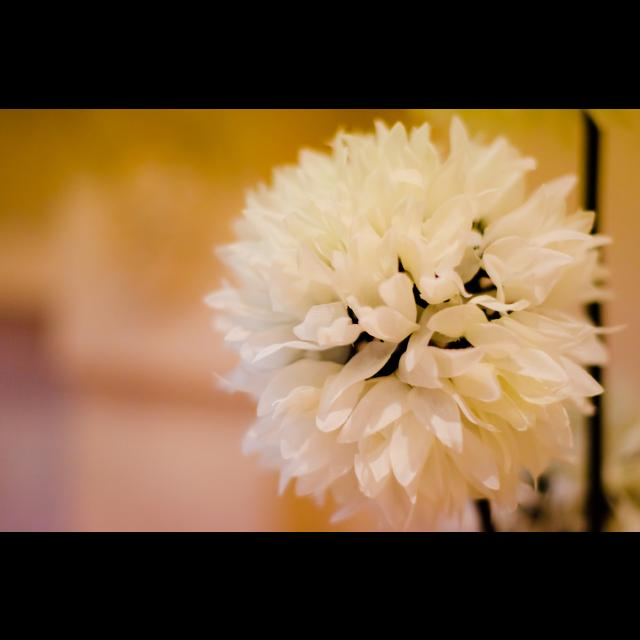Flower: (190, 115, 624, 523)
